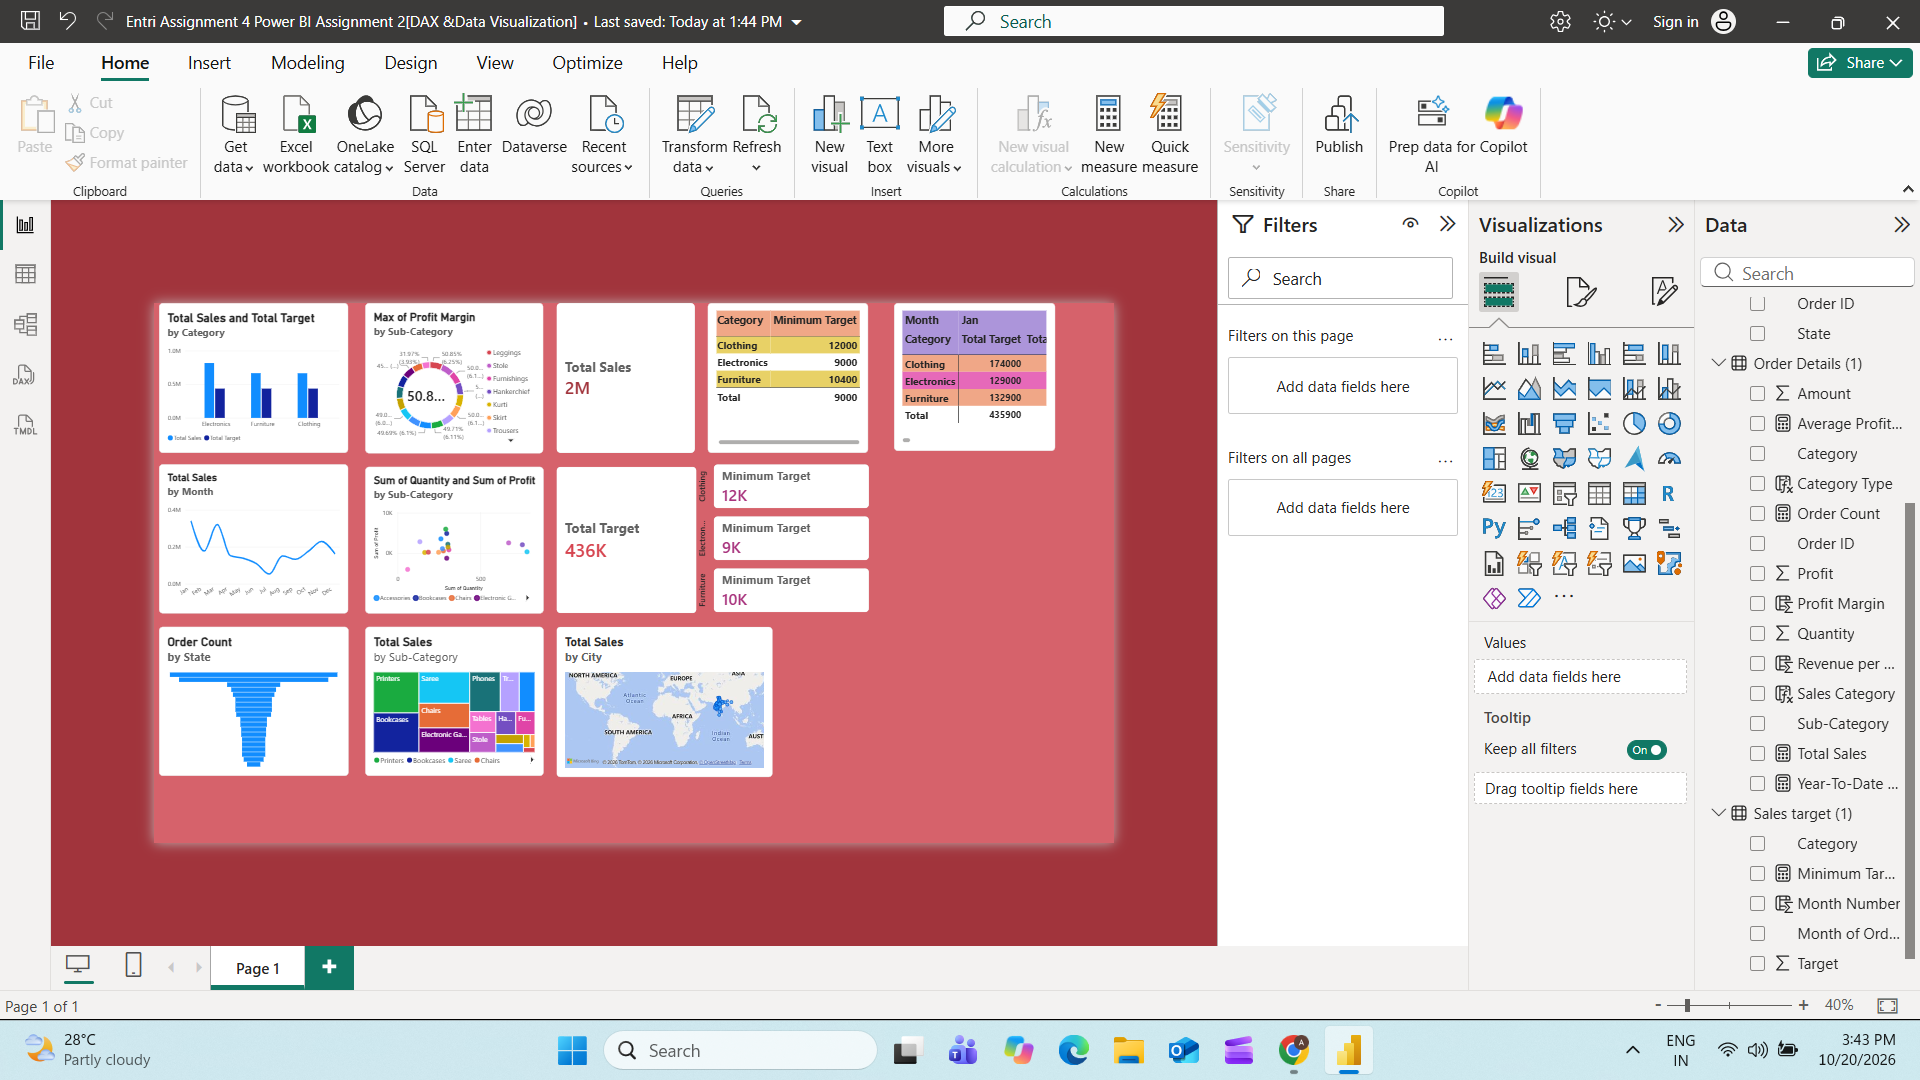

The dashboard page shown, as its layout file describes it:
{"tool":"powerbi","page":{"name":"Page 1","canvas":[1920,1080],"ordinal":0},"visuals":[{"type":"clusteredColumnChart","fields":{"Category":["Order Details (1).Category"],"Y":["Order Details (1).Total Sales","Sales target (1).Total Target"]},"box":[10,0,378.3,300],"z":0},{"type":"donutChart","fields":{"Category":["Order Details (1).Sub-Category"],"Y":["Max(Order Details (1).Profit Margin)"]},"box":[423.3,0,356.1,300.5],"z":1000},{"type":"lineChart","fields":{"Category":["Date Table.Year Hierarchy.Year","Date Table.Year Hierarchy.Month","Date Table.Year Hierarchy.Date"],"Y":["Order Details (1).Total Sales"]},"box":[10,321.7,378.7,298.5],"z":2000},{"type":"scatterChart","fields":{"Series":["Order Details (1).Sub-Category"],"X":["Sum(Order Details (1).Quantity)"],"Y":["Sum(Order Details (1).Profit)"]},"box":[423.3,326.7,356.7,293.3],"z":3000},{"type":"cardVisual","fields":{"Data":["Order Details (1).Total Sales"]},"box":[805,0,277.9,300],"z":4000},{"type":"cardVisual","fields":{"Data":["Sales target (1).Total Target"]},"box":[805,326.7,280,293.3],"z":5000},{"type":"tableEx","fields":{"Values":["Sales target (1).Category","Sales target (1).Minimum Target"]},"box":[1108.3,0,321,300],"z":6000},{"type":"pivotTable","fields":{"Columns":["Date Table.Year Hierarchy.Year","Date Table.Year Hierarchy.Month","Date Table.Year Hierarchy.Date"],"Rows":["Sales target (1).Category"],"Values":["Sales target (1).Total Target","Order Details (1).Total Sales"]},"box":[1480,0,322,296],"z":7000},{"type":"map","fields":{"Category":["List of Orders.City"],"Size":["Order Details (1).Total Sales"]},"box":[805,646.7,432.2,300.5],"z":8000},{"type":"treemap","fields":{"Group":["Order Details (1).Sub-Category"],"Values":["Order Details (1).Total Sales"]},"box":[423.3,646.7,356.7,298.3],"z":9000},{"type":"funnel","fields":{"Category":["List of Orders.State"],"Y":["Order Details (1).Order Count"]},"box":[10,646.7,379,298],"z":10000},{"type":"cardVisual","fields":{"Data":["Sales target (1).Minimum Target"],"Rows":["Sales target (1).Category"]},"box":[1085,321.7,345,298.3],"z":11000}]}

Visuals, with their boxes on the page's 1920x1080 design canvas (x1, y1, x2, y2). These are canvas units, not pixel positions in the 1920x1080 screenshot, which may show the page scaled, cropped or inside an application window:
clusteredColumnChart - Order Details (1).Category x Order Details (1).Total Sales: x1=10 y1=0 x2=388 y2=300
donutChart - Order Details (1).Sub-Category x Max(Order Details (1).Profit Margin): x1=423 y1=0 x2=779 y2=300
lineChart - Date Table.Year Hierarchy.Year x Date Table.Year Hierarchy.Month: x1=10 y1=322 x2=389 y2=620
scatterChart - Order Details (1).Sub-Category x Sum(Order Details (1).Quantity): x1=423 y1=327 x2=780 y2=620
cardVisual - Order Details (1).Total Sales: x1=805 y1=0 x2=1083 y2=300
cardVisual - Sales target (1).Total Target: x1=805 y1=327 x2=1085 y2=620
tableEx - Sales target (1).Category x Sales target (1).Minimum Target: x1=1108 y1=0 x2=1429 y2=300
pivotTable - Date Table.Year Hierarchy.Year x Date Table.Year Hierarchy.Month: x1=1480 y1=0 x2=1802 y2=296
map - List of Orders.City x Order Details (1).Total Sales: x1=805 y1=647 x2=1237 y2=947
treemap - Order Details (1).Sub-Category x Order Details (1).Total Sales: x1=423 y1=647 x2=780 y2=945
funnel - List of Orders.State x Order Details (1).Order Count: x1=10 y1=647 x2=389 y2=945
cardVisual - Sales target (1).Minimum Target x Sales target (1).Category: x1=1085 y1=322 x2=1430 y2=620
